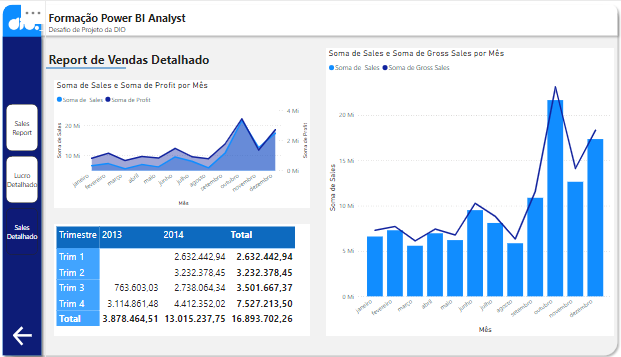

The page's visual inventory and layout, read from the dashboard file:
{"tool":"powerbi","page":{"name":"Sales Detalhado","canvas":[1280,720],"ordinal":2},"visuals":[{"type":"group","id":"g1","title":"Grupo 1","box":[0,0,1248,720],"z":0},{"type":"shape","title":"Background","box":[0,0,1248,720],"z":500,"group":"g1"},{"type":"actionButton","title":"Botão - Seta","box":[25,640,48,64],"z":1000},{"type":"textbox","box":[96,96,352,64],"z":2000},{"type":"areaChart","fields":{"Category":["financials.Date.Variation.Hierarquia de datas.Mês"],"Y":["Sum(financials. Sales)"],"Y2":["Sum(financials.Profit)"]},"box":[112,160,512,256],"z":6001},{"type":"lineClusteredColumnComboChart","fields":{"Category":["financials.Date.Variation.Hierarquia de datas.Mês"],"Y":["Sum(financials. Sales)"],"Y2":["Sum(financials.Gross Sales)"]},"box":[656,96,576,576],"z":6002},{"type":"pivotTable","fields":{"Columns":["financials.Date.Variation.Hierarquia de datas.Ano"],"Rows":["financials.Date.Variation.Hierarquia de datas.Trimestre"],"Values":["Sum(financials.Profit)"]},"box":[112,448,512,224],"z":6003},{"type":"pageNavigator","box":[16,208,64,304],"z":6004},{"type":"shape","box":[32,0,1216,80],"z":7250,"group":"g1"},{"type":"shape","box":[0,0,96,720],"z":7500,"group":"g1"},{"type":"shape","box":[0,64,96,656],"z":8000,"group":"g1"},{"type":"shape","box":[96,128,160,16],"z":12000,"group":"g1"},{"type":"image","box":[16,16,80,64],"z":13000,"group":"g1"},{"type":"textbox","box":[96,16,448,64],"z":13500,"group":"g1"}]}

Visuals, with their boxes on the page's 1280x720 design canvas (x1, y1, x2, y2). These are canvas units, not pixel positions in the 621x357 screenshot, which may show the page scaled, cropped or inside an application window:
"Grupo 1" group: 0, 0, 1248, 720
"Background" shape: 0, 0, 1248, 720
"Botão - Seta" actionButton: 25, 640, 73, 704
textbox: 96, 96, 448, 160
areaChart - financials.Date.Variation.Hierarquia de datas.Mês x Sum(financials. Sales): 112, 160, 624, 416
lineClusteredColumnComboChart - financials.Date.Variation.Hierarquia de datas.Mês x Sum(financials. Sales): 656, 96, 1232, 672
pivotTable - financials.Date.Variation.Hierarquia de datas.Ano x financials.Date.Variation.Hierarquia de datas.Trimestre: 112, 448, 624, 672
pageNavigator: 16, 208, 80, 512
shape: 32, 0, 1248, 80
shape: 0, 0, 96, 720
shape: 0, 64, 96, 720
shape: 96, 128, 256, 144
image: 16, 16, 96, 80
textbox: 96, 16, 544, 80
